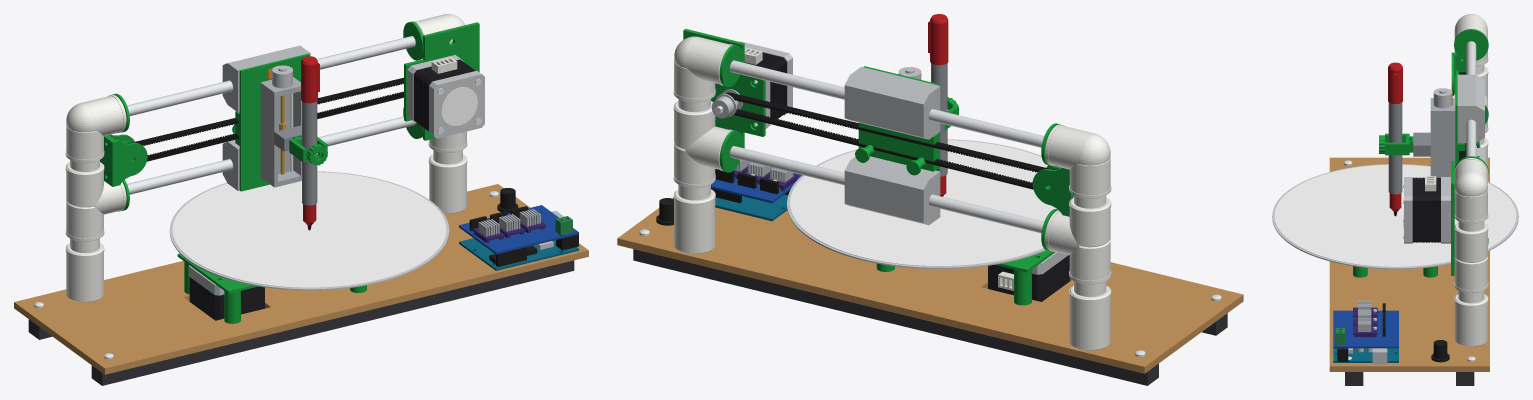
The model's file is plotter.glb.
3 views of the same model, side by side, from view 1: azimuth 30°, elevation 25°; view 2: azimuth 150°, elevation 25°; view 3: azimuth 270°, elevation 25° (orthographic). The views are drawn at different scales.
Parts seen in each view (by area): view 1: board__wood, paper__sheet, stands, bars, rods, carriage_plate, stage__frame, x_motor__caps, x_belt, x_motor_plate, blocks, idler_bracket (+14 smaller); view 2: board__wood, stands, paper__sheet, blocks, bars, rods, x_belt, carriage_plate, x_motor_plate, spools, y_motor__body, idler_bracket (+12 smaller); view 3: paper__sheet, board__wood, stands, stage__frame, blocks, x_motor__body, electronics__shield, x_motor__caps, pen__body, x_motor__core, platter, spools (+15 smaller).
Boxes of the visible parts, x1,y1,x2,y2 form: board__wood: [14, 184, 588, 374]; paper__sheet: [172, 172, 446, 287]; stands: [65, 14, 467, 302]; bars: [28, 260, 574, 385]; rods: [127, 36, 415, 194]; carriage_plate: [232, 53, 309, 191]; stage__frame: [260, 77, 301, 187]; x_motor__caps: [407, 55, 484, 138]; x_belt: [128, 77, 403, 161]; x_motor_plate: [404, 22, 479, 140]; blocks: [222, 45, 310, 190]; idler_bracket: [100, 134, 147, 186]; board__wood: [617, 197, 1243, 373]; stands: [673, 36, 1111, 350]; paper__sheet: [790, 140, 1056, 266]; blocks: [844, 66, 940, 225]; bars: [633, 249, 1227, 385]; rods: [730, 60, 1044, 233]; x_belt: [726, 92, 1053, 189]; carriage_plate: [855, 66, 939, 175]; x_motor_plate: [683, 28, 765, 148]; spools: [719, 45, 1060, 251]; y_motor__body: [988, 255, 1069, 301]; idler_bracket: [1032, 165, 1073, 216]; paper__sheet: [1274, 165, 1516, 267]; board__wood: [1329, 157, 1489, 371]; stands: [1454, 14, 1488, 346]; stage__frame: [1430, 98, 1455, 177]; blocks: [1457, 74, 1484, 161]; x_motor__body: [1412, 177, 1440, 242]; electronics__shield: [1333, 310, 1398, 348]; x_motor__caps: [1404, 177, 1450, 243]; pen__body: [1388, 102, 1402, 194]; x_motor__core: [1414, 178, 1440, 241]; platter: [1272, 164, 1518, 269]; spools: [1454, 29, 1488, 243].
Size of the model in its own units: 400 by 196 by 200.
